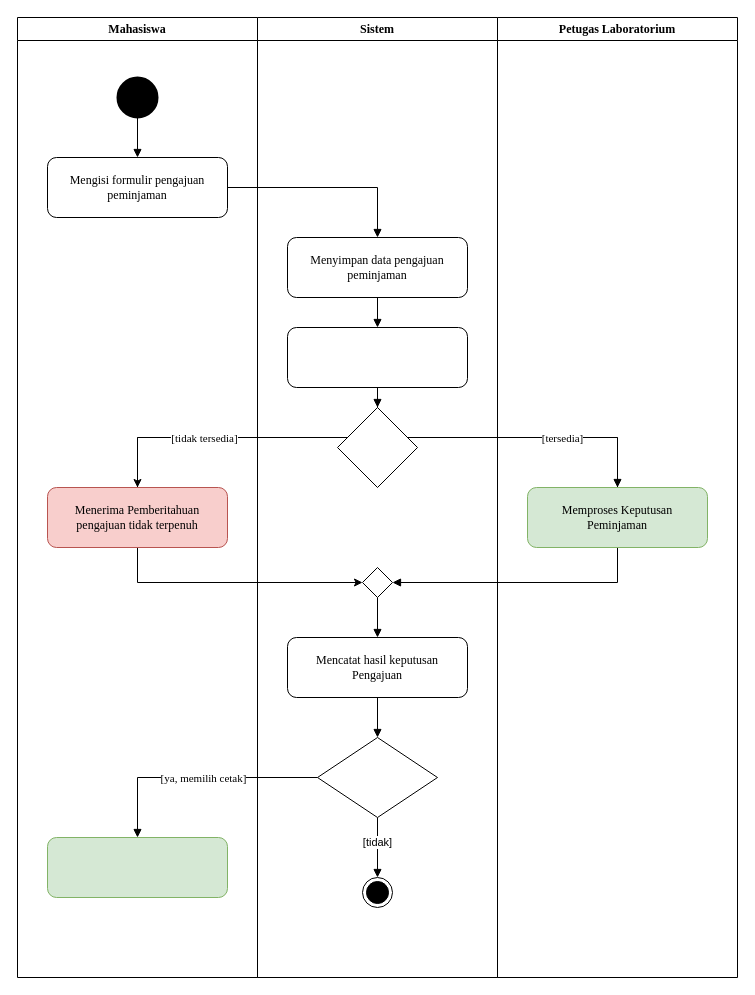
Some shapes in this 755 by 995 pixel diagram are drawn without their labels. The box of each missing label's shape, as (x1, y1, x2, y2) in pixels:
Cetak Bukti Pengajuan: (46, 836, 228, 898)
Mahasiswa memiliki cetak bukti?: (316, 736, 438, 818)
Peralatan Tersedia?: (336, 406, 418, 488)
Periksa Ketersediaan: (286, 326, 468, 388)
